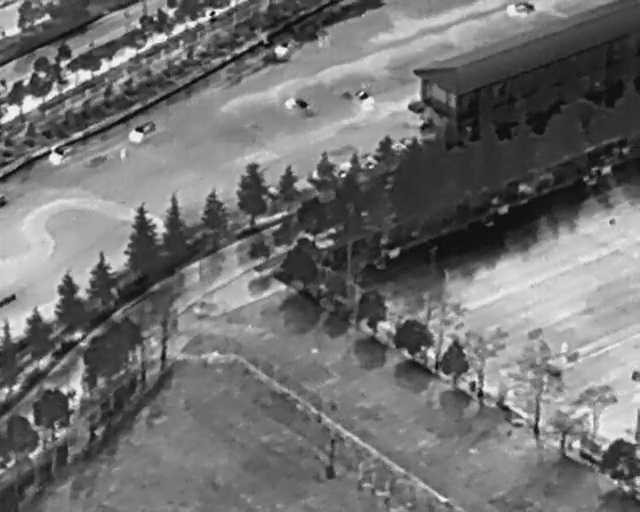Car: (281, 90, 315, 125), (125, 115, 159, 148), (44, 141, 76, 169), (349, 84, 379, 113), (273, 36, 299, 59), (505, 1, 535, 17)
Person: (560, 339, 569, 361), (117, 146, 126, 164)
